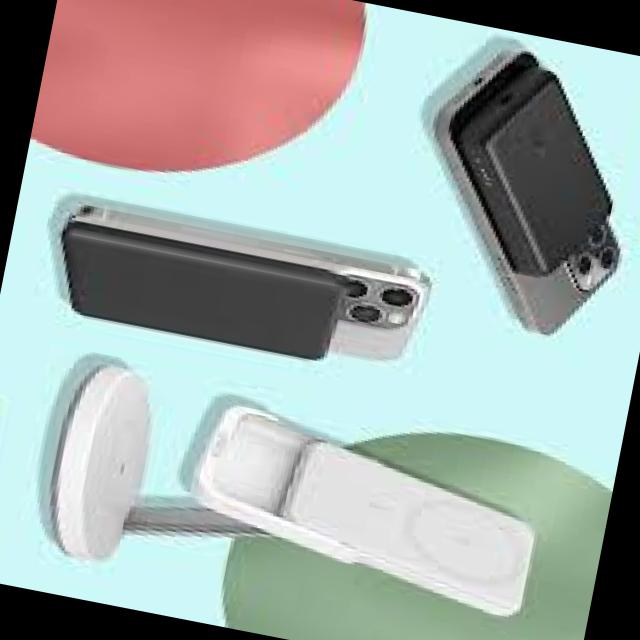power_bank: (268, 434, 554, 620), (424, 55, 638, 292), (43, 217, 354, 374)
